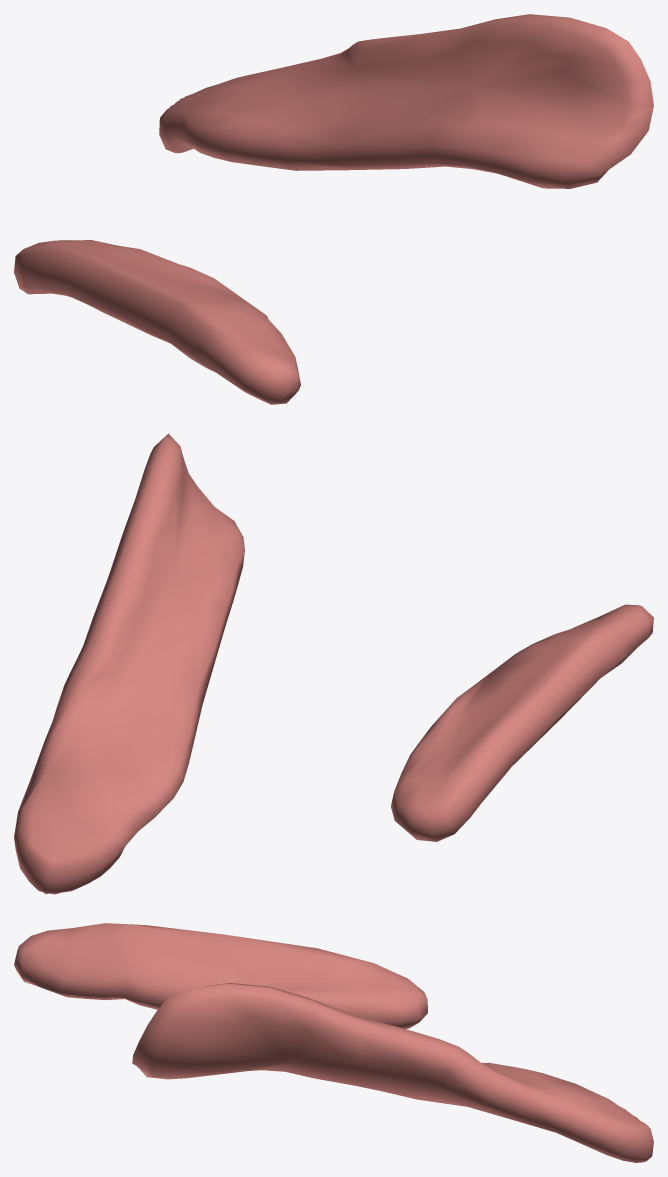
The picture shows the model from 3 angles, top to bottom: view 1: azimuth 30°, elevation 25°; view 2: azimuth 150°, elevation 25°; view 3: azimuth 270°, elevation 25°; orthographic projection. The views are drawn at different scales.
Visible parts, largest first — view 1: ZA_f2675c6e369eaf77; view 2: ZA_f2675c6e369eaf77; view 3: ZA_f2675c6e369eaf77.
Part boxes in pixels (x1,y1,x2,y2): ZA_f2675c6e369eaf77: (14,14,653,404); ZA_f2675c6e369eaf77: (14,433,653,894); ZA_f2675c6e369eaf77: (14,923,653,1162).
Bounding box in the file's own units: 0.00579 × 0.00315 × 0.00798.
